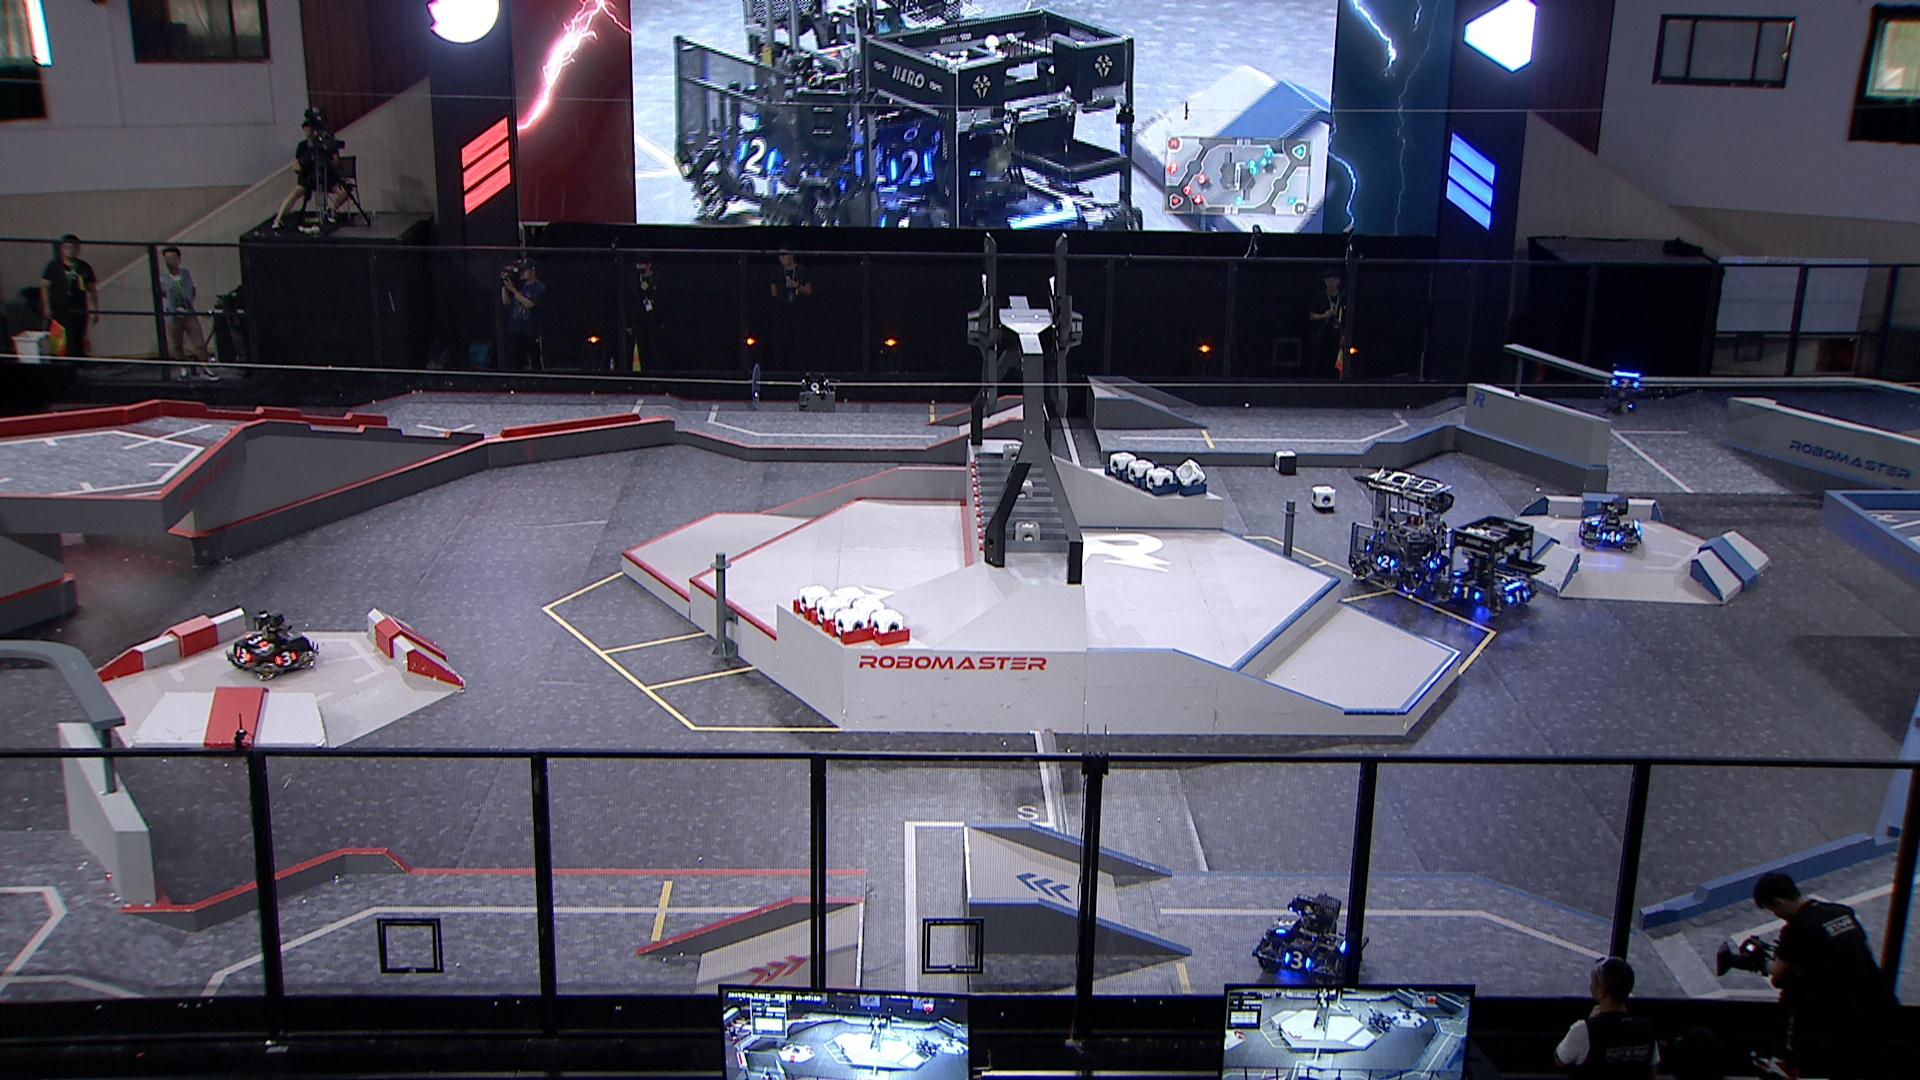armor: (1280, 949, 1313, 972), (1452, 583, 1482, 603), (273, 647, 299, 669), (1609, 376, 1640, 390), (1505, 589, 1528, 607), (1271, 916, 1295, 934), (1600, 529, 1623, 545), (243, 632, 266, 647), (231, 646, 251, 665), (1375, 553, 1396, 568), (1425, 555, 1443, 571), (1588, 514, 1600, 527)
car: (1348, 465, 1455, 593), (1247, 891, 1371, 988), (1433, 516, 1545, 618), (223, 611, 320, 679), (1575, 495, 1643, 553)
ignore: (669, 0, 978, 224), (862, 7, 1143, 233)
watcher: (1596, 367, 1643, 417)
